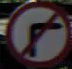Don't turn right: (7, 5, 63, 57)
